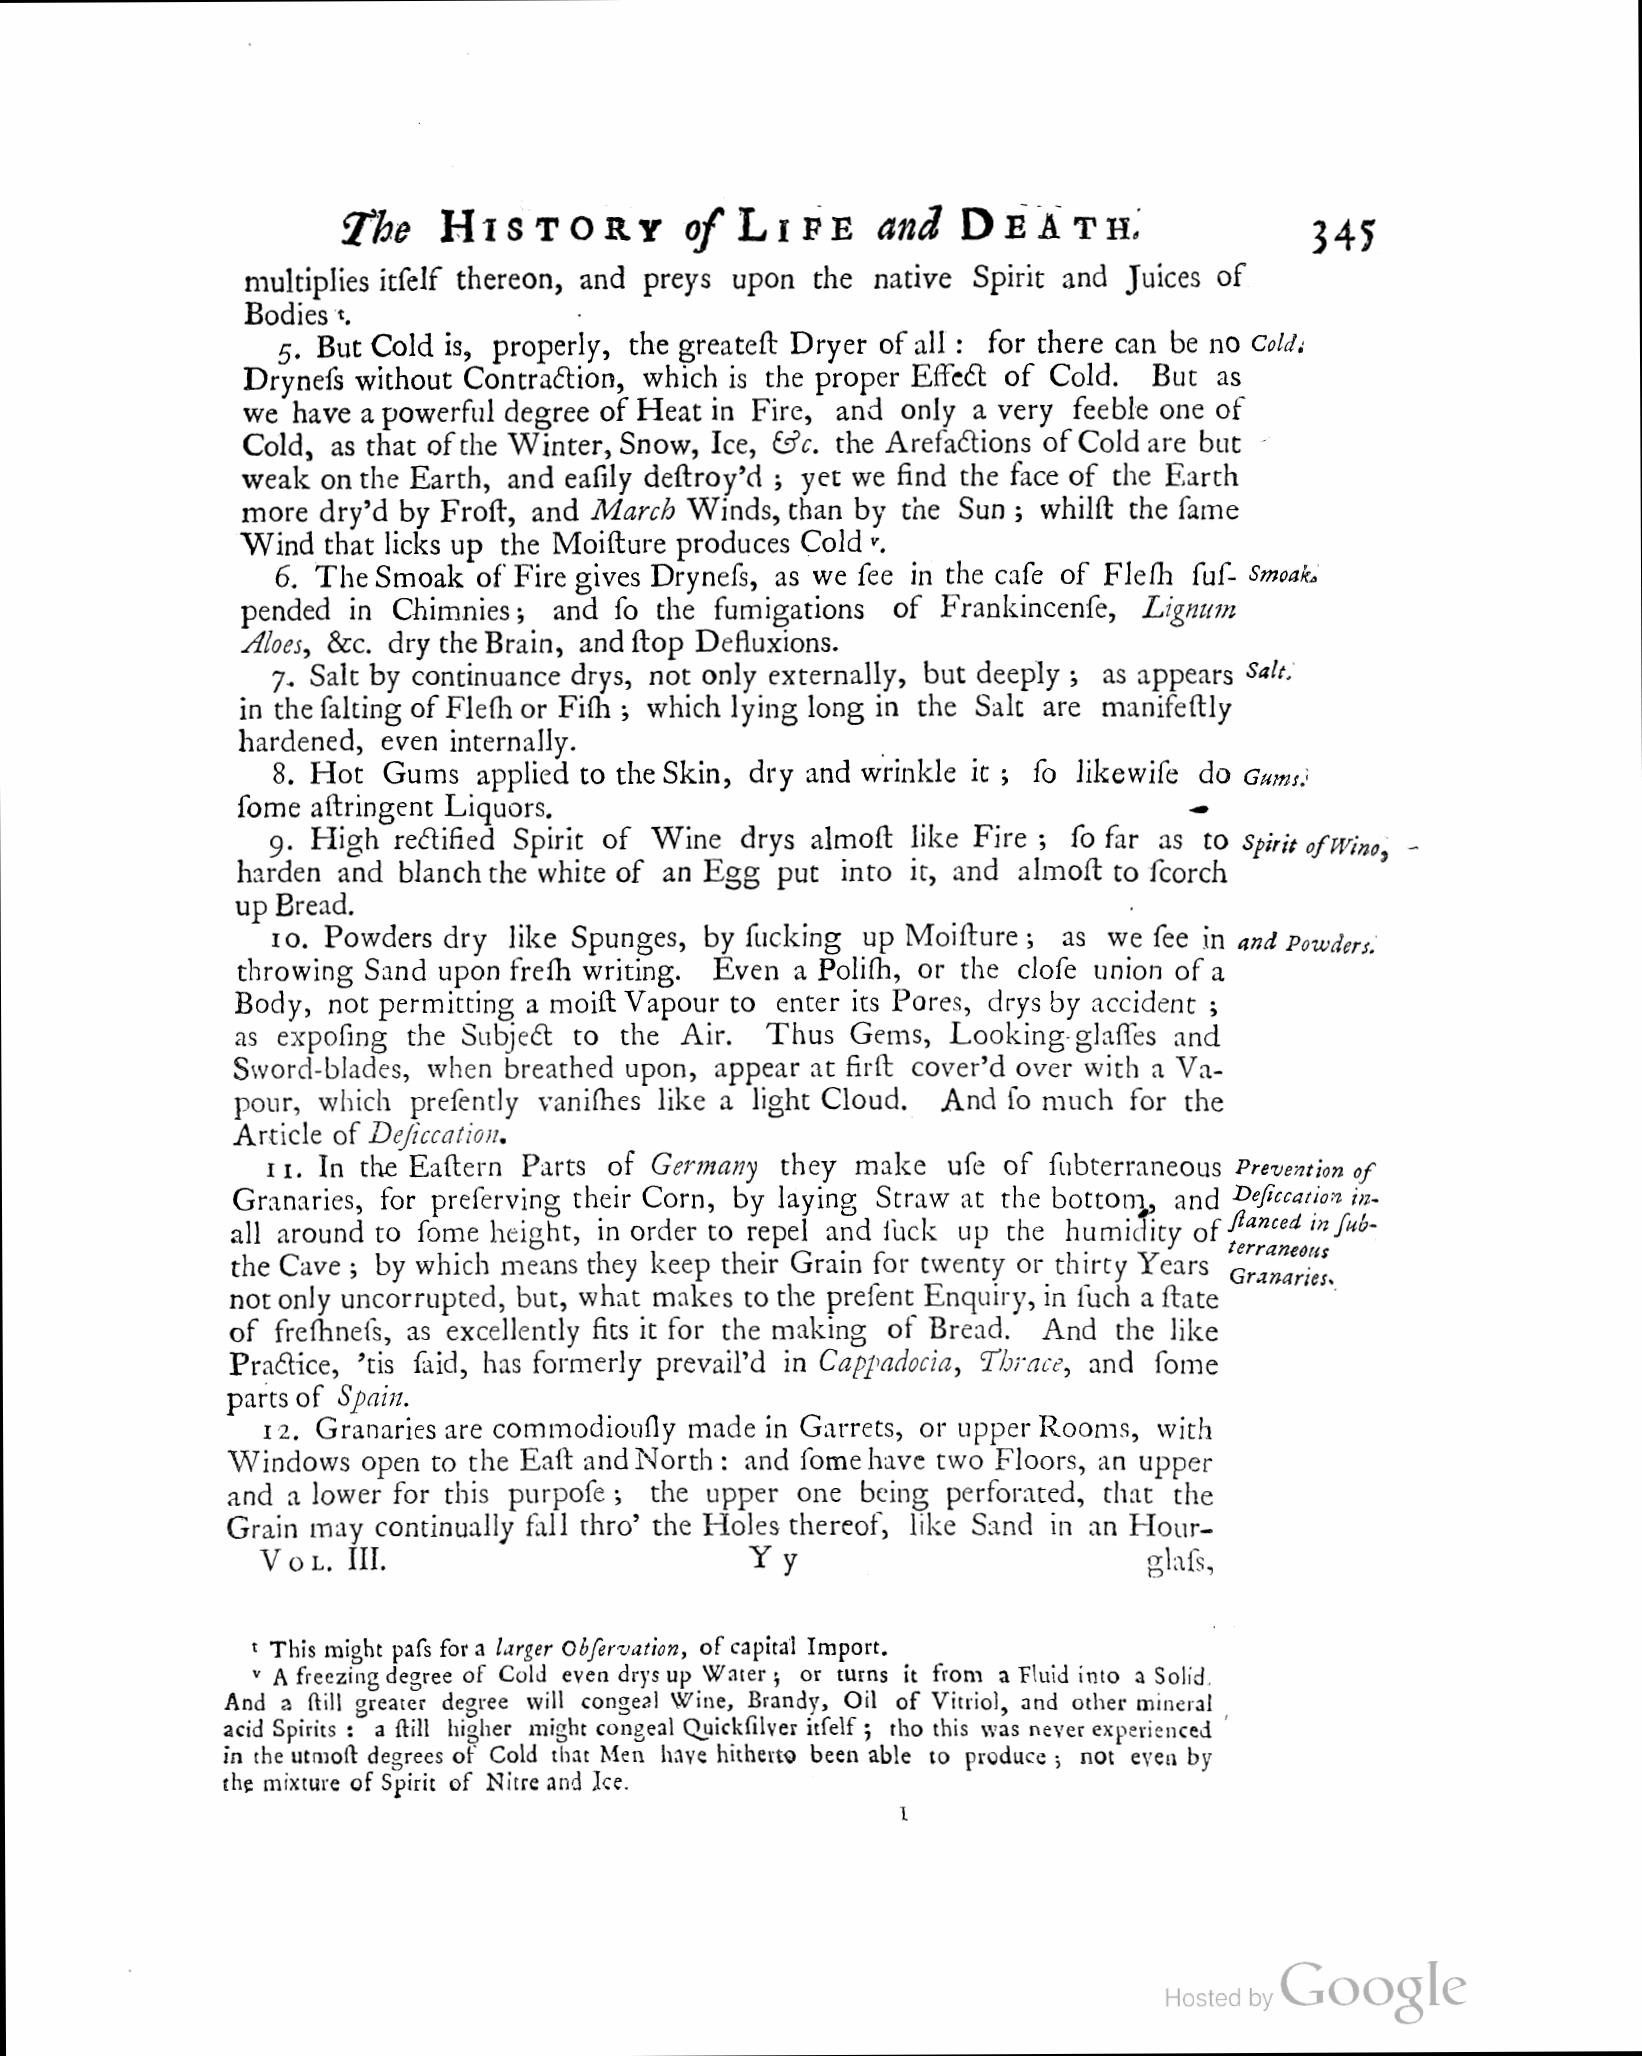bottom_p: (240, 258, 1250, 327)
catchword: (1146, 1545, 1216, 1580)
footnotes: (218, 1634, 1215, 1800)
full_p: (225, 1151, 1225, 1416), (236, 328, 1248, 563), (231, 922, 1230, 1151), (225, 1414, 1216, 1545), (235, 823, 1231, 925), (235, 659, 1237, 759), (236, 561, 1242, 660), (235, 757, 1233, 824)
header: (338, 204, 1146, 251)
page_num: (1307, 211, 1384, 261)
print_marg: (1226, 1156, 1381, 1289), (1240, 831, 1391, 866), (1235, 930, 1376, 958), (1248, 561, 1320, 588), (1242, 766, 1310, 793), (1250, 330, 1309, 357), (1245, 657, 1295, 684)
signature: (749, 1543, 799, 1577), (896, 1801, 913, 1825)
